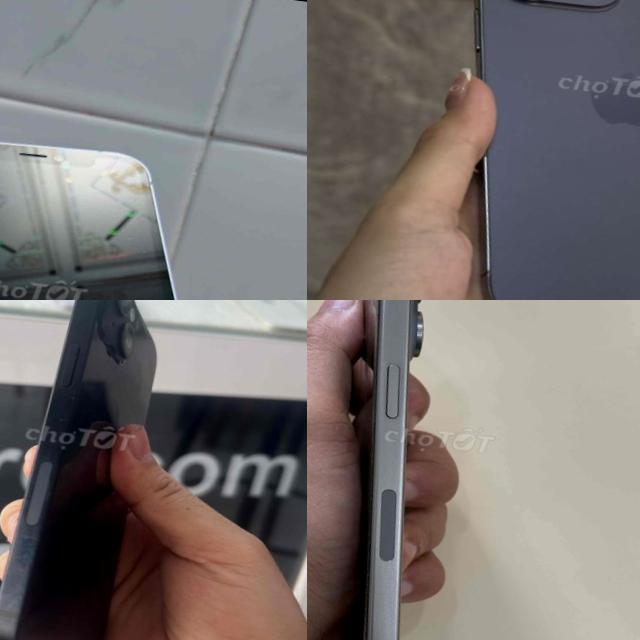gen_12_13: (0, 119, 278, 300)
gen_14: (413, 0, 640, 300), (0, 300, 187, 640)
gen_15: (307, 300, 481, 640)
